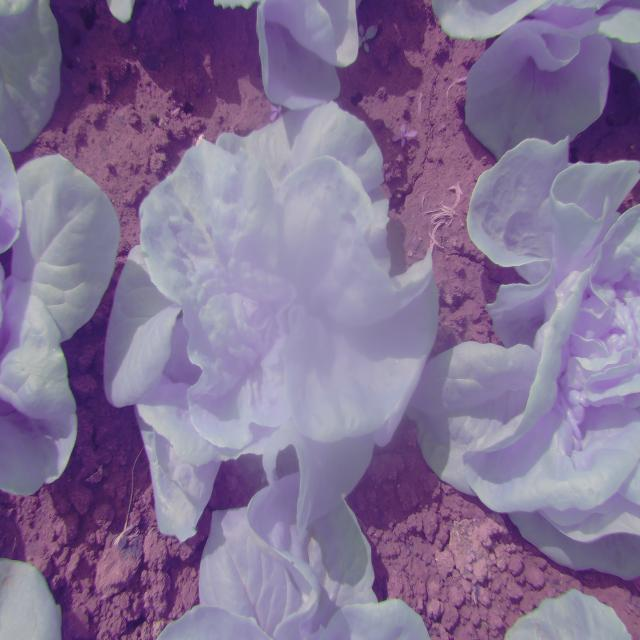vege: (107, 101, 440, 535)
